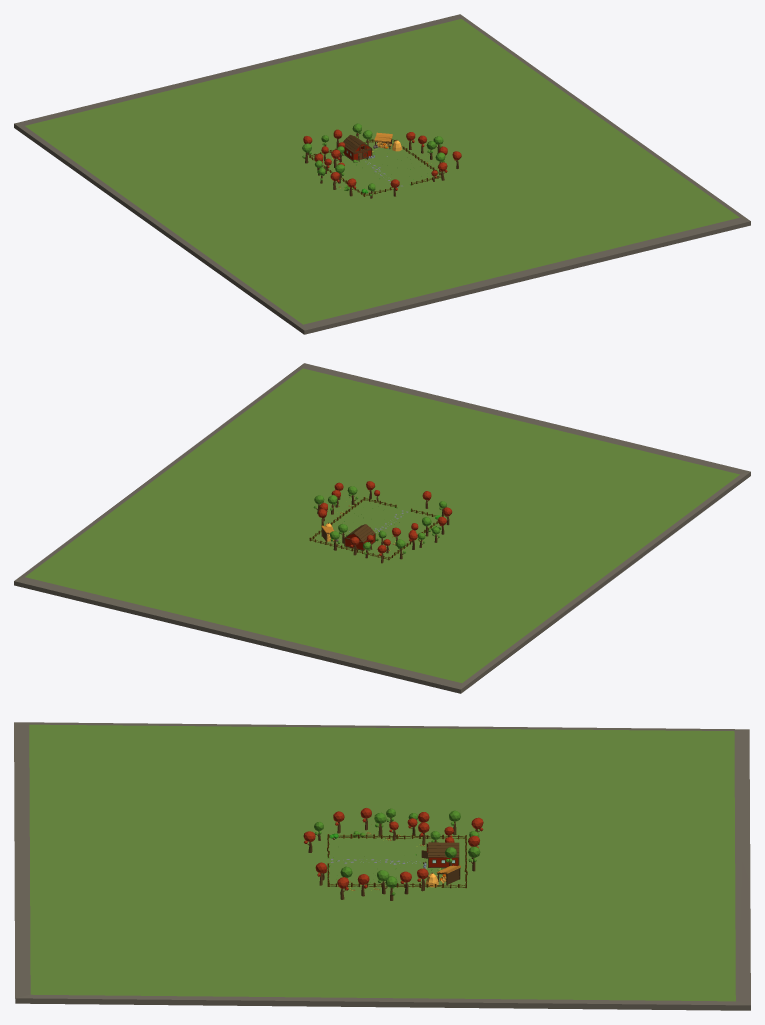
The model's file is ground4.glb.
3 views of the same model, one above another, from view 1: azimuth 30°, elevation 25°; view 2: azimuth 150°, elevation 25°; view 3: azimuth 270°, elevation 25° (orthographic). The views are drawn at different scales.
Parts seen in each view (by area): view 1: terrain, ambar; view 2: terrain; view 3: terrain, ambar.
Boxes of the visible parts, x1=… form: terrain: x1=14, y1=14, x2=750, y2=334; ambar: x1=342, y1=135, x2=372, y2=161; terrain: x1=14, y1=363, x2=750, y2=693; terrain: x1=14, y1=722, x2=750, y2=1010; ambar: x1=421, y1=842, x2=459, y2=868.
Size of the model in its own units: 187 by 10.44 by 211.
